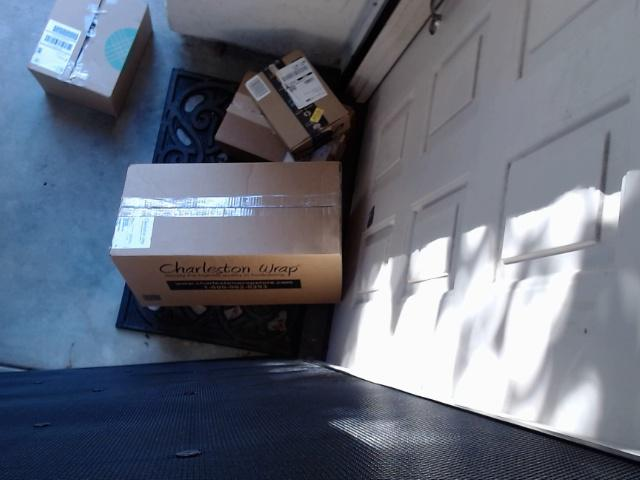box: (99, 164, 360, 315), (0, 0, 148, 126), (210, 50, 376, 159), (236, 34, 362, 151)
